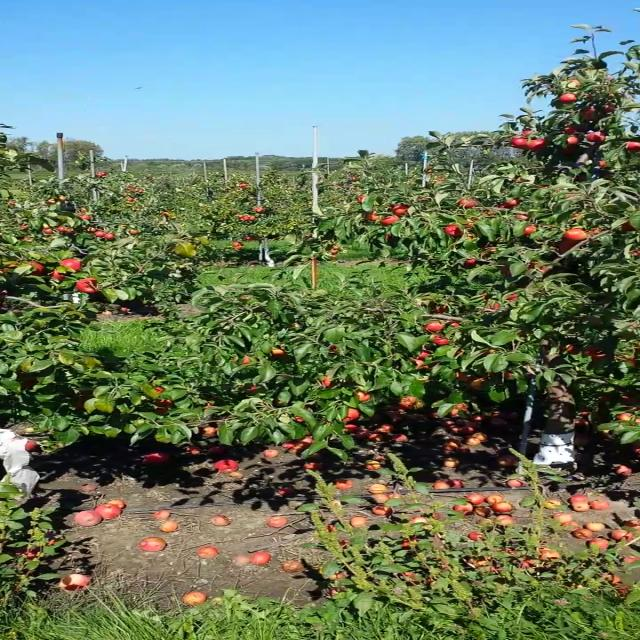apple: (561, 229, 586, 243), (77, 278, 97, 292), (17, 373, 37, 387), (526, 259, 547, 271), (509, 136, 528, 148), (558, 242, 577, 254), (400, 396, 420, 407), (581, 345, 603, 355), (341, 408, 359, 420), (28, 261, 44, 273), (470, 377, 486, 389), (61, 259, 80, 269), (587, 132, 605, 142), (620, 221, 638, 231), (451, 404, 466, 416), (446, 225, 462, 236), (429, 302, 446, 312), (502, 264, 514, 278), (529, 140, 545, 150), (591, 354, 607, 364), (618, 412, 634, 422), (583, 109, 597, 120), (25, 441, 40, 451), (394, 204, 409, 214), (153, 399, 174, 406), (1, 264, 17, 273), (564, 125, 582, 133), (234, 356, 250, 365), (54, 270, 68, 280), (562, 145, 576, 155), (620, 394, 634, 404), (432, 336, 449, 344), (357, 390, 370, 400), (426, 322, 442, 330), (458, 198, 474, 206), (560, 93, 576, 101), (566, 136, 582, 144), (381, 216, 399, 223), (627, 141, 639, 151), (524, 226, 535, 236), (461, 259, 474, 267), (595, 160, 608, 168), (413, 358, 423, 368), (457, 371, 467, 381), (73, 397, 83, 407), (626, 357, 636, 367), (507, 199, 521, 206), (203, 426, 215, 434), (367, 211, 379, 219), (498, 202, 514, 208), (566, 344, 575, 354), (419, 351, 430, 359), (322, 376, 330, 386), (272, 348, 285, 354), (488, 304, 500, 310), (506, 294, 516, 300), (604, 105, 612, 112), (295, 416, 304, 422), (332, 245, 338, 254), (522, 130, 532, 135), (517, 214, 528, 218), (154, 387, 162, 392), (156, 408, 166, 412), (504, 372, 514, 376), (358, 195, 363, 203), (329, 346, 338, 350), (422, 365, 431, 369), (450, 322, 458, 326), (632, 252, 638, 256), (637, 417, 639, 421)
